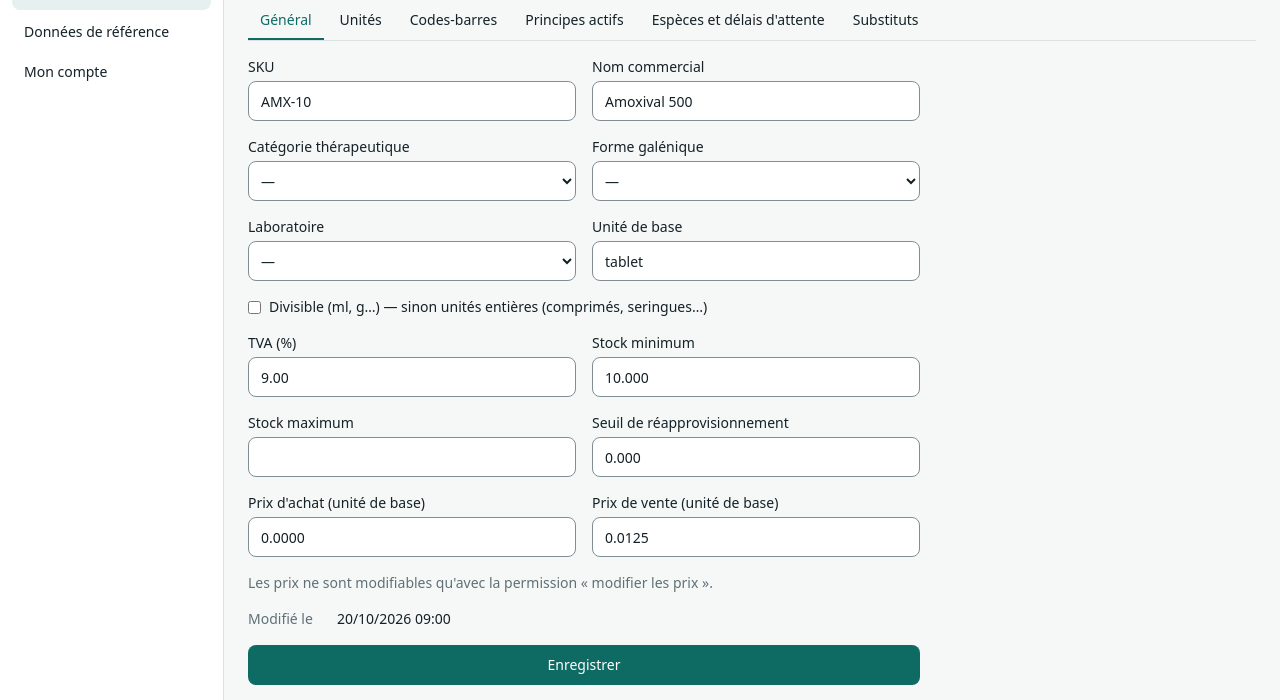
Scenario: product pages › sends prices only with price.edit (BR-PROD-006)
The image size is (1280, 700).
(page scrolled)
Expected: the field labelled "Prix de vente (unité de base)" is disabled, [592,517,920,557]
Expected: the text "Les prix ne sont modifiables" is shown, [248,573,713,592]
Click the button "Enregistrer". click: {"x": 584, "y": 665}
box: [248,645,920,685]
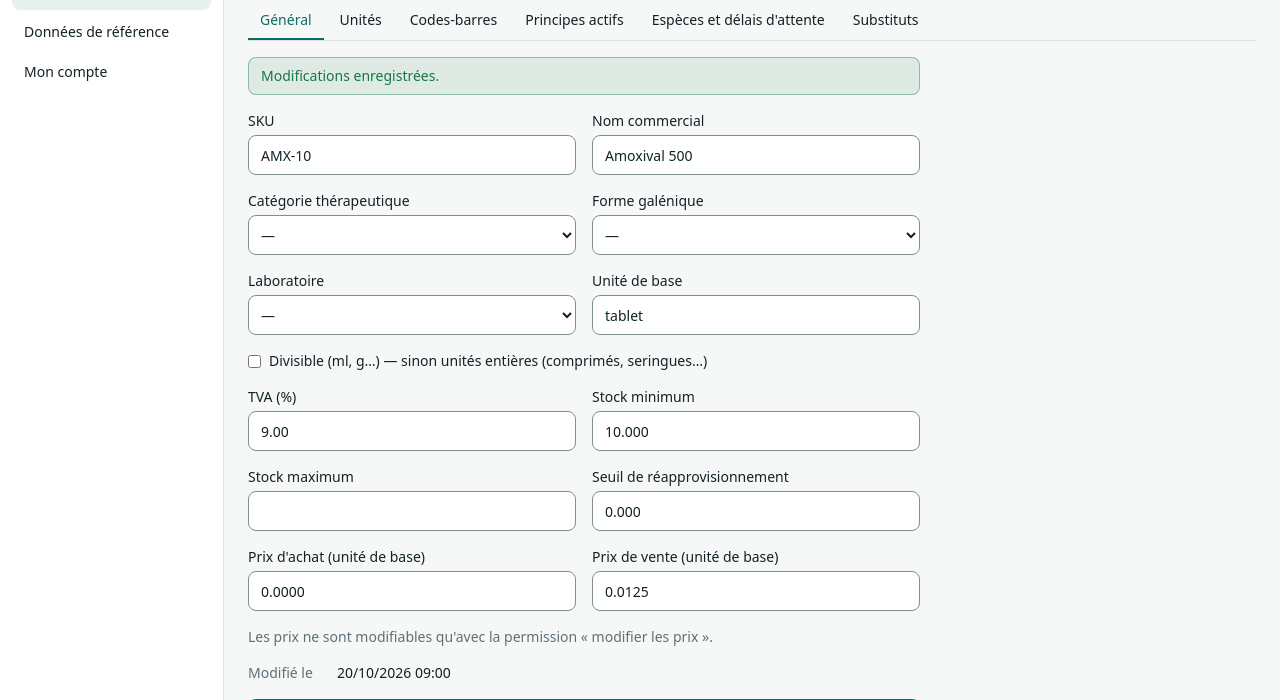
Now the text "Modifications enregistrées." is shown, box [248,57,920,95]
